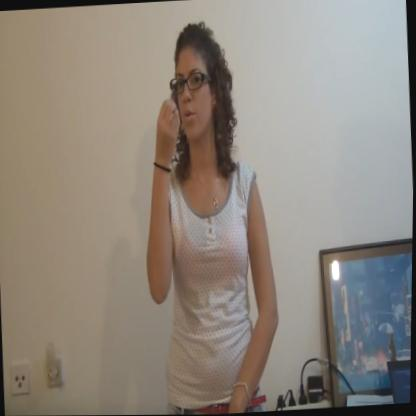Food: (127, 19, 291, 415)
